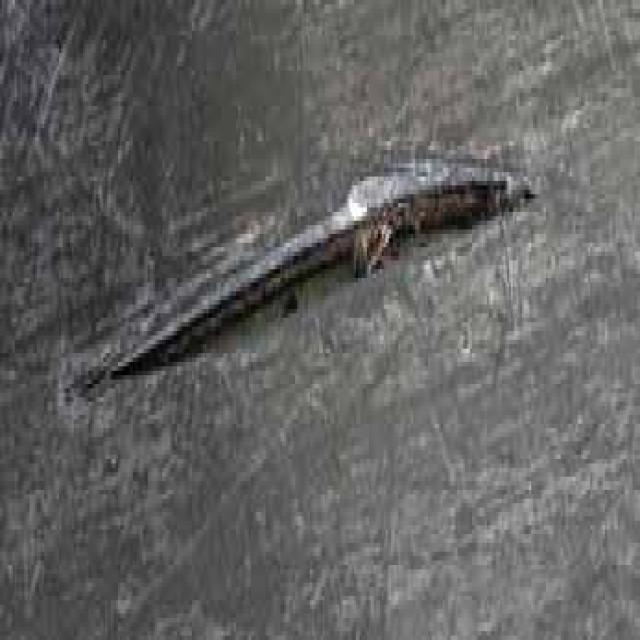Tear: (73, 160, 540, 412)
